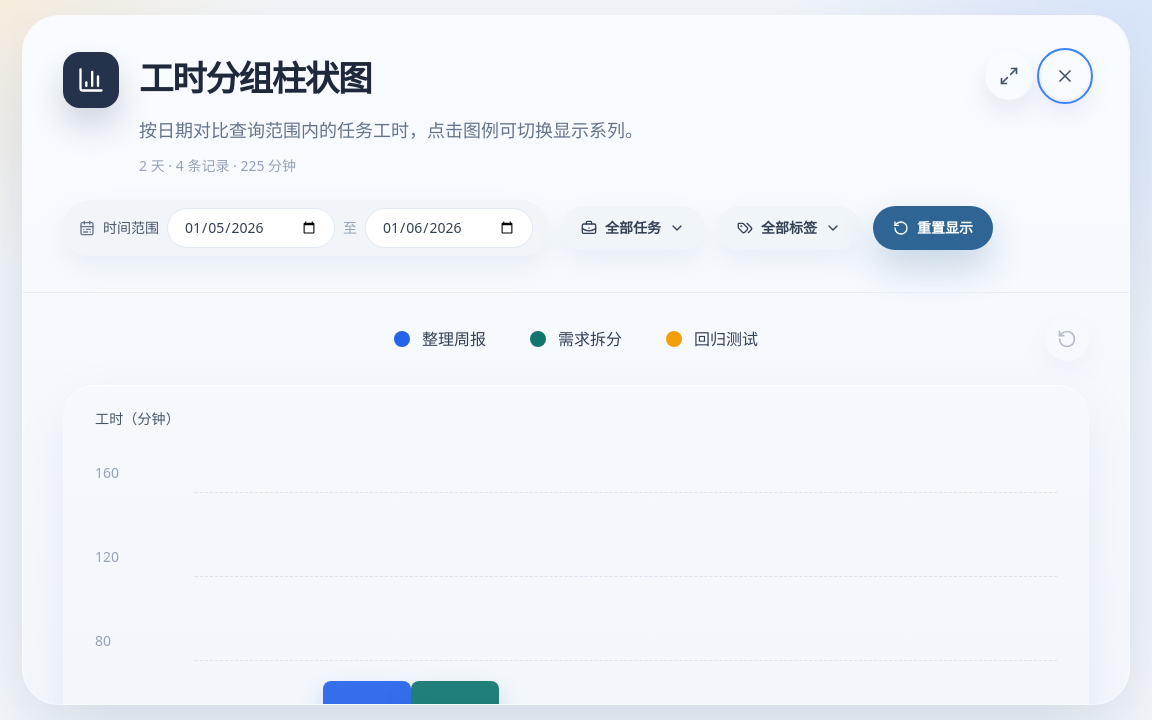
Test case: WorkLogTimeChartDialog › 支持切换全屏查看图表
The image size is (1152, 720).
Click the button named "进入全屏": (1009, 76) [985,52,1033,100]
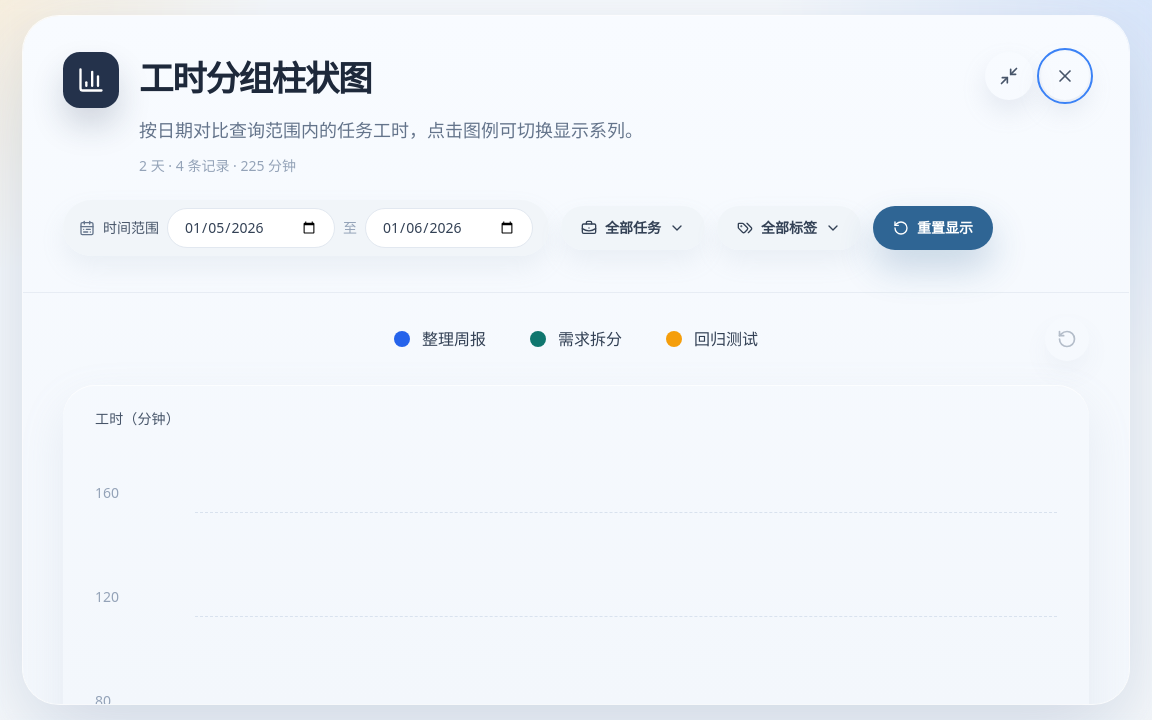
Expected: the button named "退出全屏" is shown, [985,52,1033,100]
